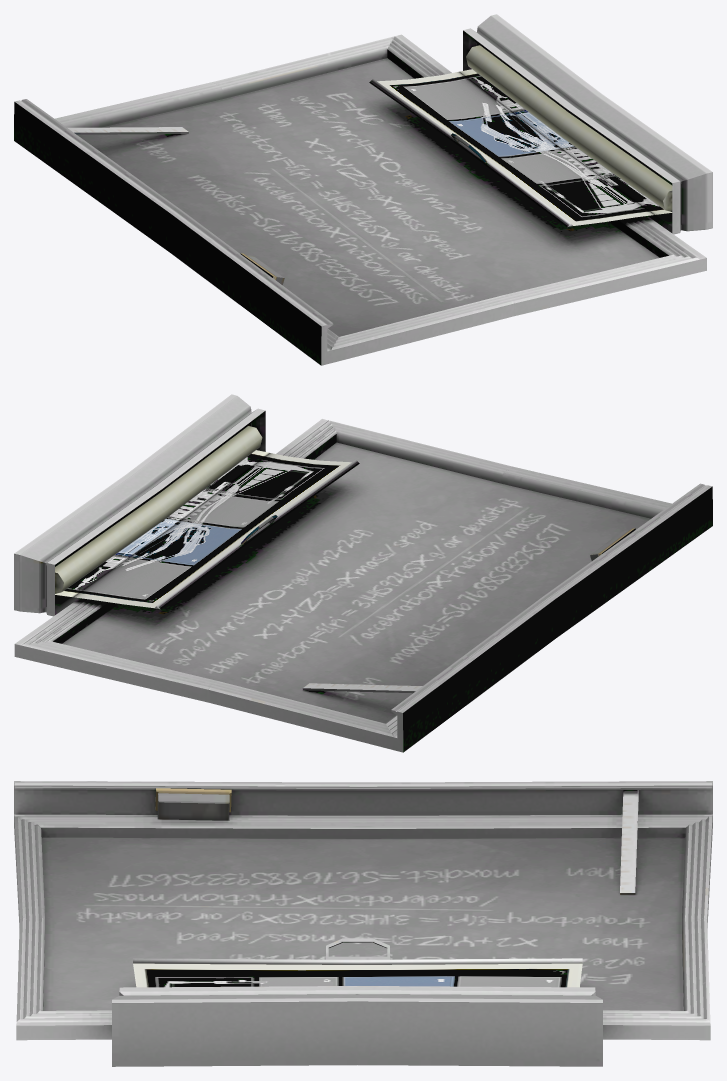
Rendered from props_2fort_chalkboard01.glb.
3 renders of one model, top to bottom at view 1: azimuth 30°, elevation 25°; view 2: azimuth 150°, elevation 25°; view 3: azimuth 270°, elevation 25°, orthographic. The views are drawn at different scales.
Parts seen in each view (by area): view 1: models/props_2fort/chalkboard01; view 2: models/props_2fort/chalkboard01; view 3: models/props_2fort/chalkboard01.
Boxes of the visible parts, box(x1,y1,x2,y2) form: models/props_2fort/chalkboard01: box(14, 14, 712, 365); models/props_2fort/chalkboard01: box(14, 394, 712, 752); models/props_2fort/chalkboard01: box(14, 781, 712, 1066).
Bounding box in the file's own units: 107 × 13.2 × 131.
Materials: 1 (1 with a texture image).
